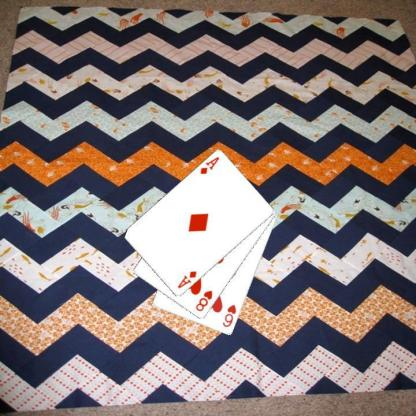6H: (220, 302, 238, 329)
8H: (193, 288, 214, 313)
AD: (198, 154, 220, 176), (175, 269, 198, 290)
